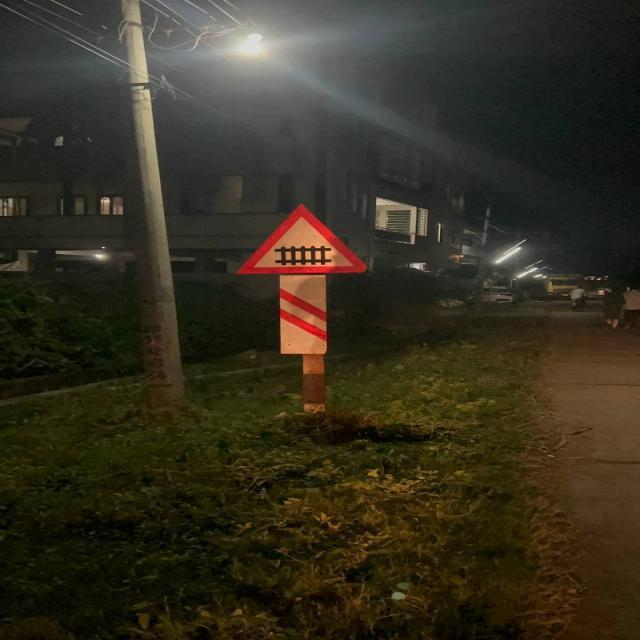guarded level crossing: (233, 200, 369, 275)
